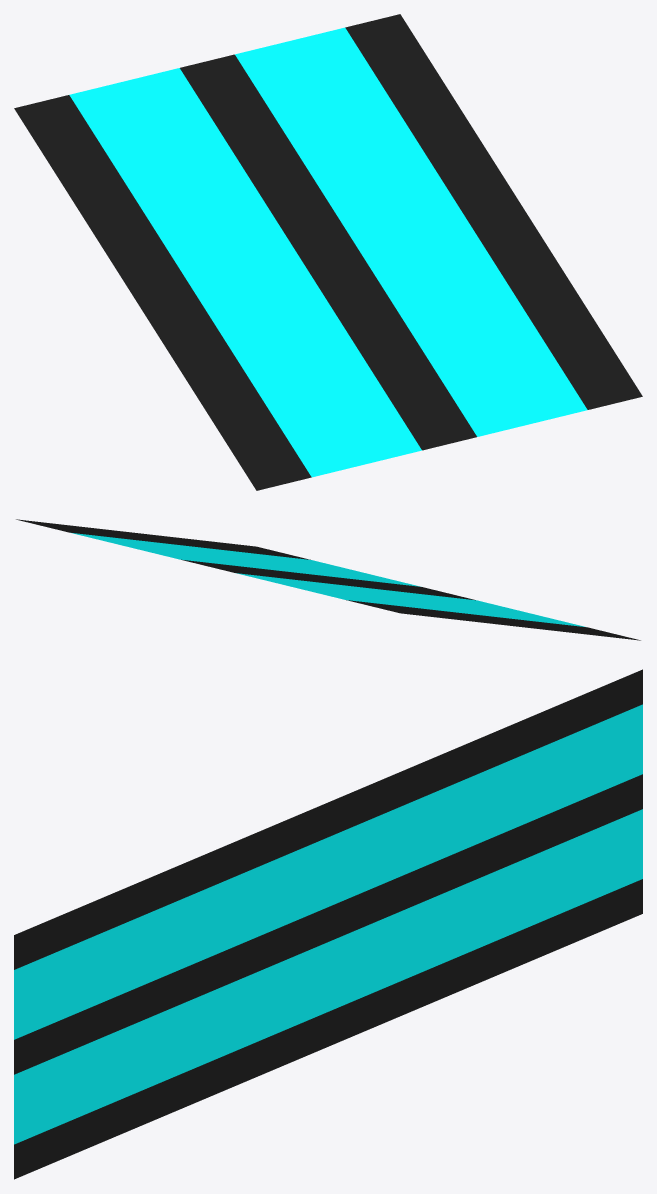
Rendered from RaceTrack_Up25Degree_6m 1.fbx.
3 views of the same model, one above another, from view 1: azimuth 30°, elevation 25°; view 2: azimuth 150°, elevation 25°; view 3: azimuth 270°, elevation 25° (orthographic). The views are drawn at different scales.
Parts seen in each view (by area): view 1: Up25Degree_6m; view 2: Up25Degree_6m; view 3: Up25Degree_6m.
Part boxes in pixels (left/top/right/bottom): Up25Degree_6m: left=14, top=14, right=642, bottom=490; Up25Degree_6m: left=16, top=519, right=640, bottom=640; Up25Degree_6m: left=14, top=669, right=642, bottom=1179.
Bounding box in the file's own units: 5 × 2.54 × 5.44.
